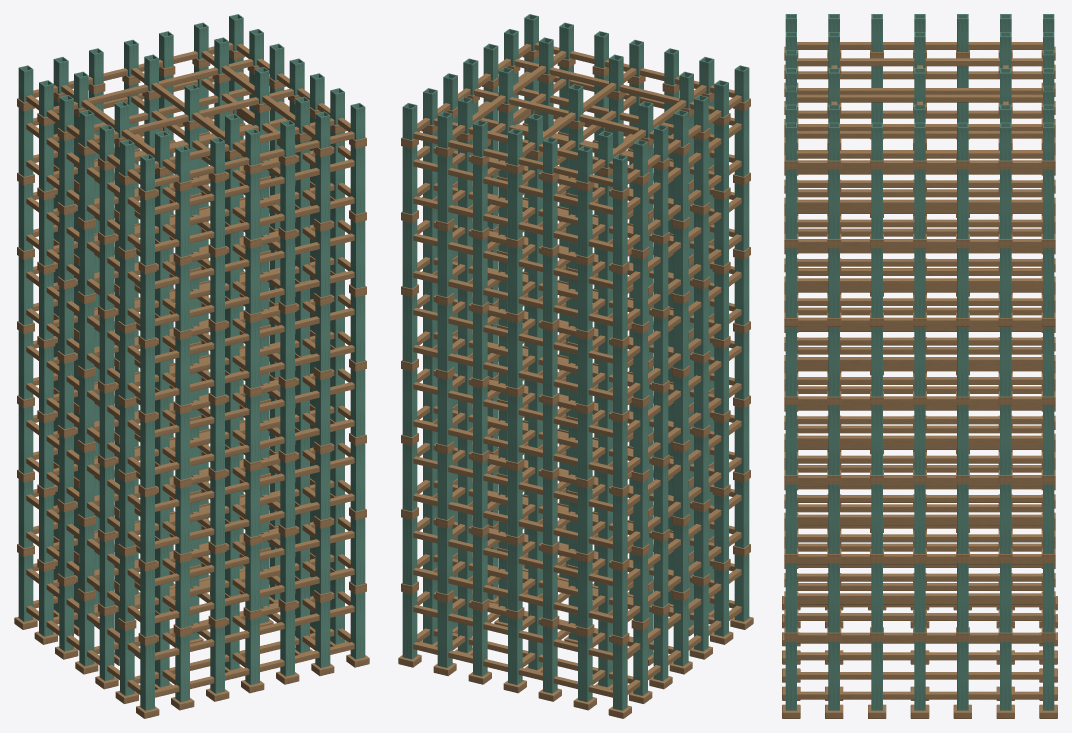
3 views of the same model, side by side, from view 1: azimuth 30°, elevation 25°; view 2: azimuth 150°, elevation 25°; view 3: azimuth 270°, elevation 25° (orthographic). The views are drawn at different scales.
Visible parts, largest first — view 1: Tier 7 internal tie 0-0.56-0-0.25, Tier 7 internal tie 0-0-0-0.25, Tier 4 tie 0-0-0.75, Tier 5 tie 0-0-0.25, Tier 6 tie 0-0-0.75, Tier 0 tie 0-0-0.75, Tier 1 tie 0-0-0.75, Tier 0 tie 0-0-0.25, Tier 1 tie 0-0-0.25, Tier 2 tie 0-0-0.25, Tier 2 tie 0-0-0.75, Tier 3 tie 0-0-0.25 (+163 smaller); view 2: Tier 7 internal tie 0--0.56-0-0.25, Tier 7 internal tie 0-0-0-0.25, Tier 4 tie 2-0-0.75, Tier 5 tie 2-0-0.25, Tier 6 tie 2-0-0.75, Tier 0 tie 2-0-0.75, Tier 1 tie 2-0-0.75, Tier 0 tie 2-0-0.25, Tier 1 tie 2-0-0.25, Tier 2 tie 2-0-0.25, Tier 2 tie 2-0-0.75, Tier 3 tie 2-0-0.25 (+163 smaller); view 3: Tier 7 internal tie 1--0.56-0-0.25, Tier 7 internal tie 1-0-0-0.25, Tier 0 tie 1-0-0.25, Tier 0 tie 1-0-0.75, Tier 1 tie 1-0-0.75, Tier 2 tie 1-0-0.25, Tier 3 internal tie 1-0.56-0-0.25, Tier 3 tie 1-0-0.25, Tier 3 tie 1-0-0.75, Tier 4 tie 1-0-0.75, Tier 5 internal tie 1-0.56-0-0.25, Tier 6 internal tie 1-0.56-0-0.25 (+121 smaller).
Boxes of the visible parts, x1=… form: Tier 7 internal tie 0-0.56-0-0.25: x1=53, y1=59, x2=253, y2=113; Tier 7 internal tie 0-0-0-0.25: x1=94, y1=88, x2=293, y2=143; Tier 4 tie 0-0-0.75: x1=155, y1=307, x2=354, y2=363; Tier 5 tie 0-0-0.25: x1=155, y1=270, x2=354, y2=326; Tier 6 tie 0-0-0.75: x1=155, y1=159, x2=354, y2=214; Tier 0 tie 0-0-0.75: x1=155, y1=605, x2=354, y2=660; Tier 1 tie 0-0-0.75: x1=155, y1=530, x2=354, y2=586; Tier 0 tie 0-0-0.25: x1=155, y1=642, x2=354, y2=697; Tier 1 tie 0-0-0.25: x1=155, y1=567, x2=354, y2=623; Tier 2 tie 0-0-0.25: x1=155, y1=493, x2=354, y2=549; Tier 2 tie 0-0-0.75: x1=155, y1=456, x2=354, y2=511; Tier 3 tie 0-0-0.25: x1=155, y1=419, x2=354, y2=474; Tier 7 internal tie 0--0.56-0-0.25: x1=514, y1=59, x2=714, y2=113; Tier 7 internal tie 0-0-0-0.25: x1=474, y1=88, x2=673, y2=143; Tier 4 tie 2-0-0.75: x1=413, y1=307, x2=612, y2=363; Tier 5 tie 2-0-0.25: x1=413, y1=270, x2=612, y2=326; Tier 6 tie 2-0-0.75: x1=413, y1=159, x2=612, y2=214; Tier 0 tie 2-0-0.75: x1=413, y1=605, x2=612, y2=660; Tier 1 tie 2-0-0.75: x1=413, y1=530, x2=612, y2=586; Tier 0 tie 2-0-0.25: x1=413, y1=642, x2=612, y2=697; Tier 1 tie 2-0-0.25: x1=413, y1=567, x2=612, y2=623; Tier 2 tie 2-0-0.25: x1=413, y1=493, x2=612, y2=549; Tier 2 tie 2-0-0.75: x1=413, y1=456, x2=612, y2=511; Tier 3 tie 2-0-0.25: x1=413, y1=419, x2=612, y2=474; Tier 7 internal tie 1--0.56-0-0.25: x1=797, y1=58, x2=1042, y2=66; Tier 7 internal tie 1-0-0-0.25: x1=797, y1=94, x2=1042, y2=102; Tier 0 tie 1-0-0.25: x1=797, y1=691, x2=1042, y2=699; Tier 0 tie 1-0-0.75: x1=797, y1=652, x2=1042, y2=660; Tier 1 tie 1-0-0.75: x1=797, y1=573, x2=1042, y2=581; Tier 2 tie 1-0-0.25: x1=797, y1=534, x2=1042, y2=542; Tier 3 internal tie 1-0.56-0-0.25: x1=797, y1=435, x2=1042, y2=443; Tier 3 tie 1-0-0.25: x1=797, y1=455, x2=1042, y2=463; Tier 3 tie 1-0-0.75: x1=797, y1=416, x2=1042, y2=424; Tier 4 tie 1-0-0.75: x1=797, y1=337, x2=1042, y2=345; Tier 5 internal tie 1-0.56-0-0.25: x1=797, y1=278, x2=1042, y2=286; Tier 6 internal tie 1-0.56-0-0.25: x1=797, y1=199, x2=1042, y2=207.
Bounding box in the file's own units: 1.8 × 4.25 × 1.8.
Materials: 2 (2 with a texture image).
